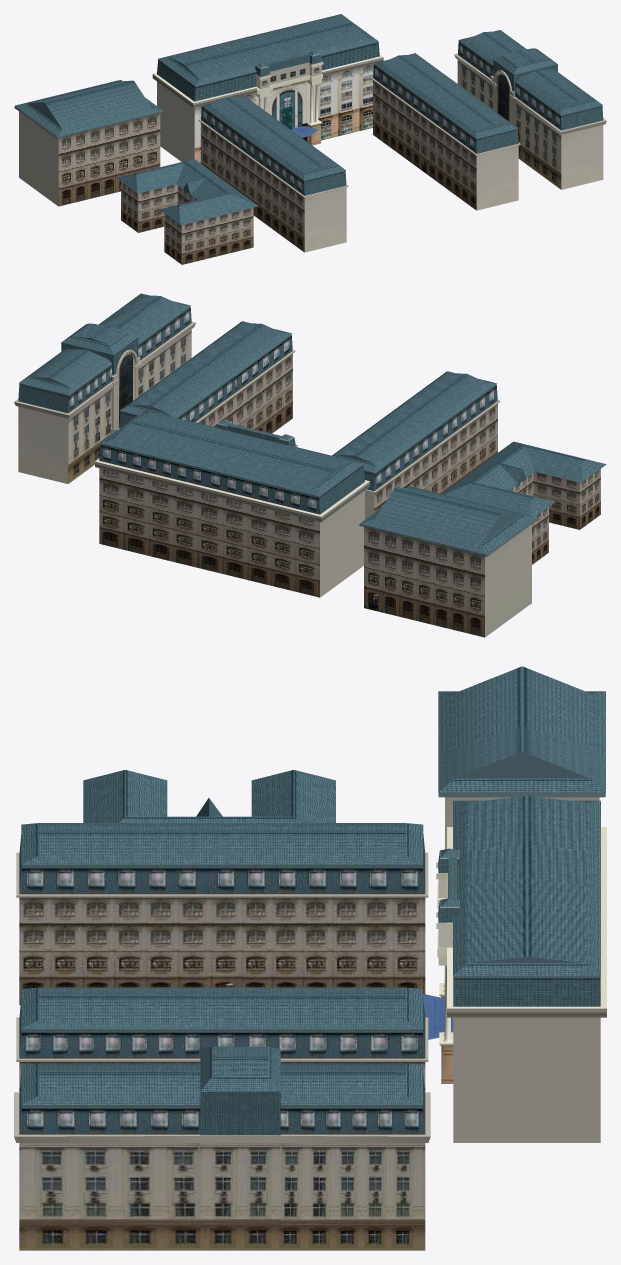
3 views of the same model, one above another, from view 1: azimuth 30°, elevation 25°; view 2: azimuth 150°, elevation 25°; view 3: azimuth 270°, elevation 25° (orthographic). The views are drawn at different scales.
Visible parts, largest first — view 1: HN810_TruongTH_THCS___THPTNguyenSieu; view 2: HN810_TruongTH_THCS___THPTNguyenSieu; view 3: HN810_TruongTH_THCS___THPTNguyenSieu.
Part boxes in pixels (x1,y1,x2,y2): HN810_TruongTH_THCS___THPTNguyenSieu: (14,14,606,264); HN810_TruongTH_THCS___THPTNguyenSieu: (14,293,606,637); HN810_TruongTH_THCS___THPTNguyenSieu: (14,666,606,1250).
Size of the model in its own units: 117 by 23.51 by 69.69.
1 material, 1 textured.
